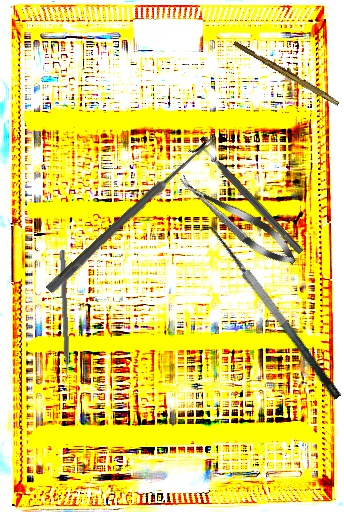Fixation Ring: (187, 135, 310, 261)
Micro Scissor: (171, 167, 304, 274)
Scalpel Handle: (231, 40, 342, 106)
Spatula Surgical: (194, 216, 344, 412), (54, 250, 72, 385)
Surgical Spoon: (45, 134, 217, 295)
